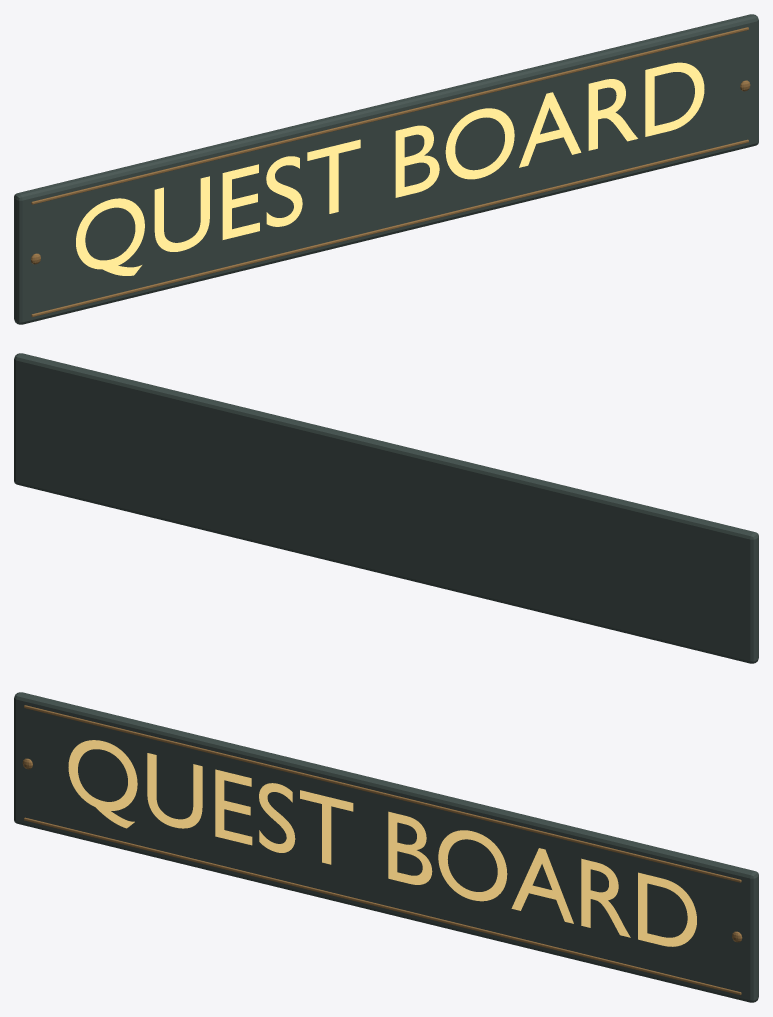
File: w1b-quest-board-fascia.glb
3 renders of one model, top to bottom at view 1: azimuth 30°, elevation 25°; view 2: azimuth 150°, elevation 25°; view 3: azimuth 330°, elevation 25°, orthographic.
Visible parts, largest first — view 1: Quest Board | fascia, QUEST BOARD, Fine brass rule.001, Fine brass rule; view 2: Quest Board | fascia; view 3: Quest Board | fascia, QUEST BOARD, Fine brass rule.001, Fine brass rule.
Part boxes in pixels (x1,y1,x2,y2): Quest Board | fascia: (14,14,758,324); QUEST BOARD: (76,62,704,275); Fine brass rule.001: (31,27,748,204); Fine brass rule: (31,139,748,317); Quest Board | fascia: (14,353,758,663); Quest Board | fascia: (14,692,758,1002); QUEST BOARD: (68,740,696,946); Fine brass rule.001: (24,705,741,882); Fine brass rule: (24,817,741,995).
Size of the model in its own units: 1.16 by 0.194 by 0.024.
